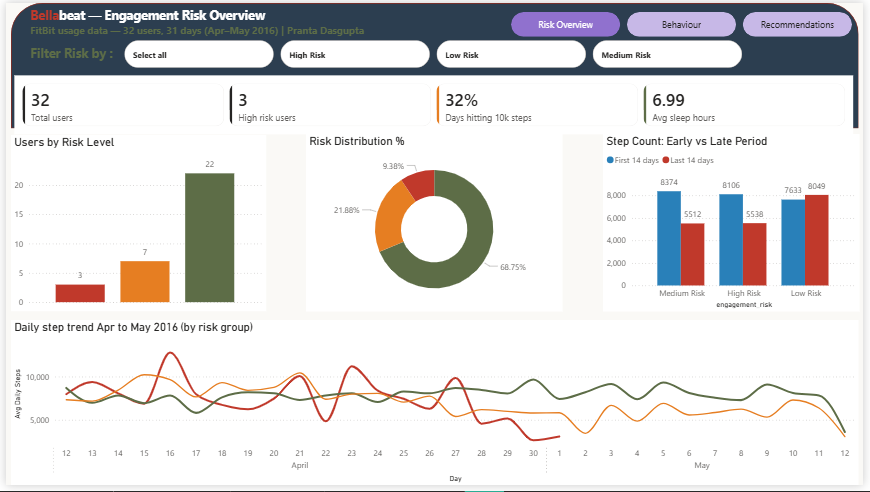

What the dashboard file says about the page in this screenshot:
{"tool":"powerbi","page":{"name":"Risk Overview","canvas":[1280,720],"ordinal":0},"visuals":[{"type":"shape","box":[7.9,0,1265.1,187.3],"z":0},{"type":"textbox","box":[31.3,0,670.1,56.7],"z":1000},{"type":"cardVisual","fields":{"Data":["Risk_Score_Table_Final.Total Users","Measure.High Risk Users","DailyActivityMergedClean.Step Goal Rate","DailyActivityMergedClean.Avg Sleep Hours"]},"box":[7.5,103.2,1265.1,98.4],"z":2000},{"type":"clusteredColumnChart","title":"Users by Risk Level","fields":{"Y":["Risk_Score_Table_Final.Total Users"],"Category":["Risk_Score_Table_Final.engagement_risk"]},"box":[7.9,196.8,381,263.5],"z":3000},{"type":"donutChart","title":"Risk Distribution %","fields":{"Category":["Risk_Score_Table_Final.engagement_risk"],"Y":["Risk_Score_Table_Final.Total Users"]},"box":[448.4,196,382.5,265.1],"z":4000},{"type":"lineChart","title":"Daily step trend  Apr to May 2016 (by risk group)","fields":{"Category":["DailyActivityMergedClean.ActivityDate.Variation.Date Hierarchy.Month","DailyActivityMergedClean.ActivityDate.Variation.Date Hierarchy.Day"],"Y":["Risk_Score_Table_Final.Avg Daily Steps"],"Series":["Risk_Score_Table_Final.engagement_risk"]},"box":[7.9,473,1265.1,247.6],"z":5000},{"type":"clusteredColumnChart","title":"Step Count: Early vs Late Period","fields":{"Y":["Avg(Risk_Score_Table_Final.early_steps)","Avg(Risk_Score_Table_Final.late_steps)"],"Category":["Risk_Score_Table_Final.engagement_risk"]},"box":[890.5,196,382.5,265.1],"z":6000},{"type":"advancedSlicerVisual","fields":{"Values":["Risk_Score_Table_Final.engagement_risk"]},"box":[172.4,51.3,934.2,51.3],"z":7000},{"type":"textbox","box":[31.7,57.1,228.6,52.4],"z":8000},{"type":"pageNavigator","box":[753.3,13,511.8,37.6],"z":9000}]}

Visuals, with their boxes in screenshot pixels (x1, y1, x2, y2), scaled from the page's 1280x720 canvas onto the 870x492 screenshot:
shape: select_region(5, 0, 865, 128)
textbox: select_region(21, 0, 477, 39)
cardVisual - Risk_Score_Table_Final.Total Users x Measure.High Risk Users: select_region(5, 71, 865, 138)
"Users by Risk Level" clusteredColumnChart: select_region(5, 134, 264, 315)
"Risk Distribution %" donutChart: select_region(305, 134, 565, 315)
"Daily step trend  Apr to May 2016 (by risk group)" lineChart: select_region(5, 323, 865, 491)
"Step Count: Early vs Late Period" clusteredColumnChart: select_region(605, 134, 865, 315)
advancedSlicerVisual - Risk_Score_Table_Final.engagement_risk: select_region(117, 35, 752, 70)
textbox: select_region(22, 39, 177, 75)
pageNavigator: select_region(512, 9, 860, 35)
